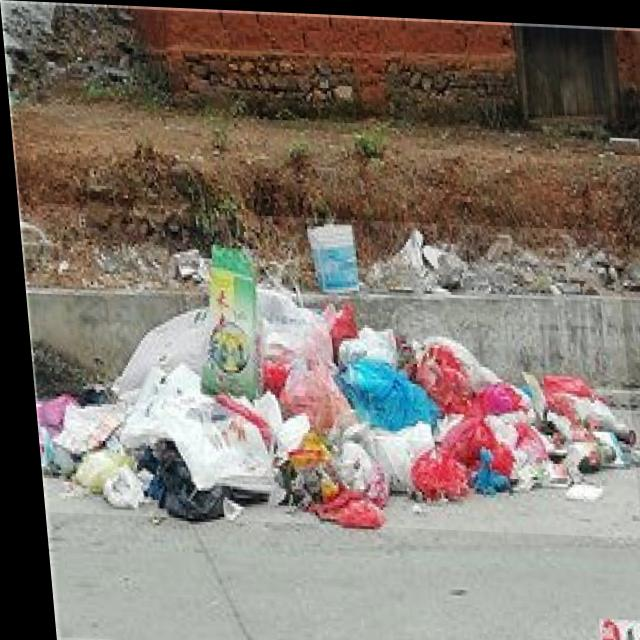garbage: (14, 205, 633, 533)
